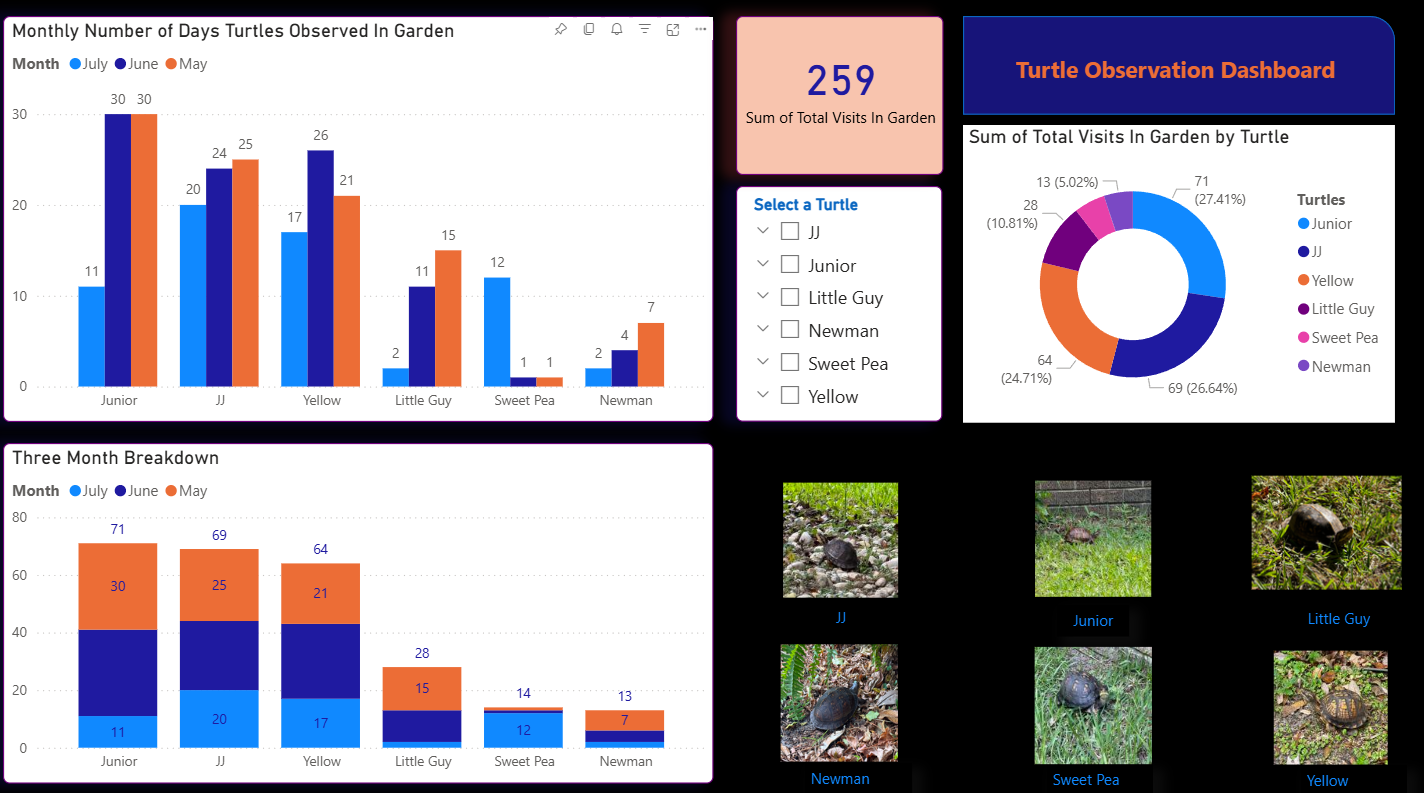

This screenshot's page, from the dashboard's own definition file:
{"tool":"powerbi","page":{"name":"Page 1","canvas":[1280,720],"ordinal":0},"visuals":[{"type":"clusteredColumnChart","title":"Monthly Number of  Days Turtles Observed In Garden","fields":{"Category":["Turtle_Feeding_June_July_Merged.Animal"],"Series":["Turtle_Feeding_June_July_Merged.Month"],"Y":["Sum(Turtle_Feeding_June_July_Merged.# of Days Turtles Ate)"]},"box":[9.7,21.4,630.3,359.9],"z":0},{"type":"slicer","fields":{"Values":["Turtle_Feeding_June_July_Merged.Animal","Turtle_Feeding_June_July_Merged.Month"]},"box":[659.5,172.2,182.9,209.1],"z":1},{"type":"columnChart","title":"Three Month Breakdown","fields":{"Y":["Sum(Turtle_Feeding_June_July_Merged.# of Days Turtles Ate)"],"Series":["Turtle_Feeding_June_July_Merged.Month"],"Category":["Turtle_Feeding_June_July_Merged.Animal"]},"box":[9.7,399.8,630.3,301.5],"z":2},{"type":"card","fields":{"Values":["Sum(Turtle_Feeding_June_July_Merged.# of Days Turtles Ate)"]},"box":[659.5,21.4,183.8,141],"z":3},{"type":"image","box":[694.5,560.2,113.8,140.1],"z":6},{"type":"textbox","box":[720.7,683.8,95.3,33.1],"z":10},{"type":"textbox","box":[944.4,543.7,64.2,28.2],"z":12},{"type":"textbox","box":[1147.7,541.8,79.8,32.1],"z":13},{"type":"textbox","box":[935.7,684.7,94.3,30.2],"z":14},{"type":"textbox","box":[720.7,540.8,64.2,28.2],"z":15},{"type":"image","box":[661.4,429.9,181.9,111.9],"z":16},{"type":"image","box":[854,428,244.1,112.8],"z":17},{"type":"image","box":[919.1,573.9,113.8,117.7],"z":19},{"type":"textbox","box":[1160.4,685.7,94.3,30.2],"z":20},{"type":"image","box":[1130.2,578.7,113.8,110.9],"z":21},{"type":"donutChart","title":"Sum of Total Visits In Garden by Turtle","fields":{"Y":["Sum(Turtle_Feeding_June_July_Merged.Total Visits In Garden)"],"Category":["Turtle_Feeding_June_July_Merged.Animal"]},"box":[860.8,117.7,383.2,263.6],"z":22},{"type":"shape","box":[860.8,21.4,383.2,87.5],"z":23},{"type":"image","box":[1111.7,407.5,143,143],"z":24}]}

Visuals, with their boxes in screenshot pixels (x1, y1, x2, y2), scaled from the page's 1280x720 canvas onto the 1424x793 screenshot:
"Monthly Number of  Days Turtles Observed In Garden" clusteredColumnChart: 11 24 712 420
slicer - Turtle_Feeding_June_July_Merged.Animal x Turtle_Feeding_June_July_Merged.Month: 734 190 937 420
"Three Month Breakdown" columnChart: 11 440 712 772
card - Sum(Turtle_Feeding_June_July_Merged.# of Days Turtles Ate): 734 24 938 179
image: 773 617 899 771
textbox: 802 753 908 790
textbox: 1051 599 1122 630
textbox: 1277 597 1366 632
textbox: 1041 754 1146 787
textbox: 802 596 873 627
image: 736 473 938 597
image: 950 471 1222 596
image: 1022 632 1149 762
textbox: 1291 755 1396 788
image: 1257 637 1384 760
"Sum of Total Visits In Garden by Turtle" donutChart: 958 130 1384 420
shape: 958 24 1384 120
image: 1237 449 1396 606
